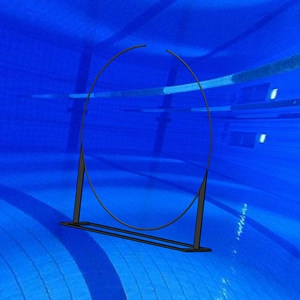circle: (59, 43, 215, 254)
